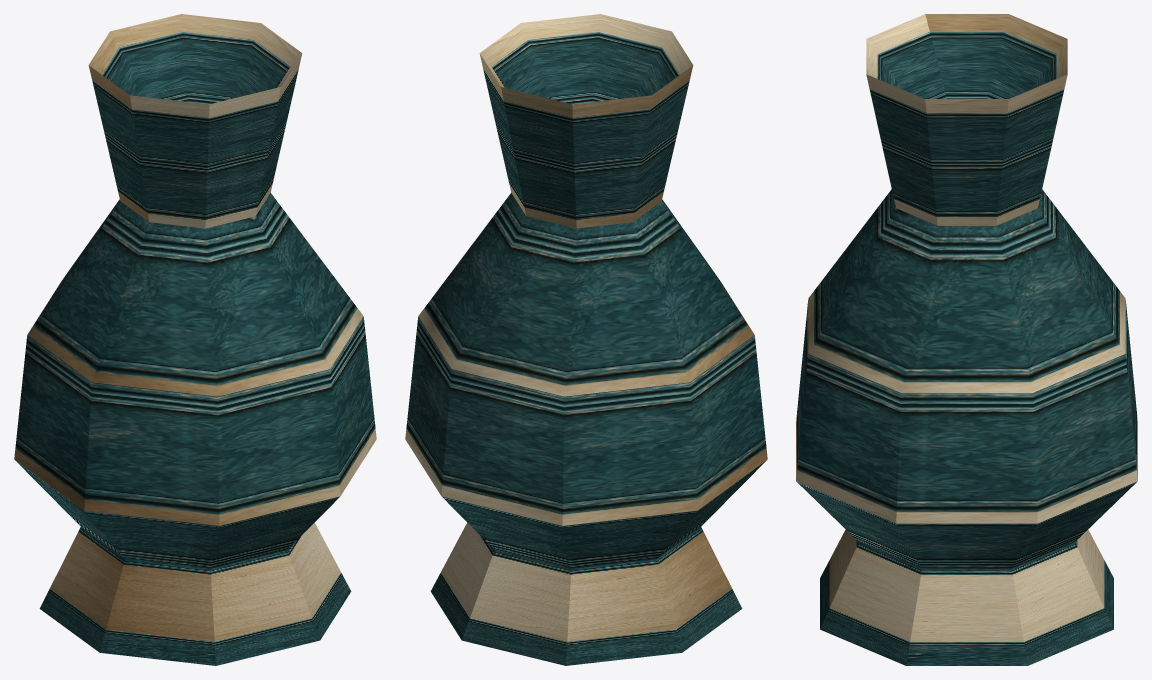
File: mm9_deco_jar06.glb
3 views of the same model, side by side, from view 1: azimuth 30°, elevation 25°; view 2: azimuth 150°, elevation 25°; view 3: azimuth 270°, elevation 25° (orthographic).
Visible parts, largest first — view 1: Jar06; view 2: Jar06; view 3: Jar06.
Boxes of the visible parts, x1=… form: Jar06: x1=14, y1=14, x2=376, y2=665; Jar06: x1=405, y1=14, x2=767, y2=665; Jar06: x1=796, y1=14, x2=1137, y2=665.
Bounding box in the file's own units: 0.3558 × 0.6287 × 0.3558.
1 material, 1 textured.
